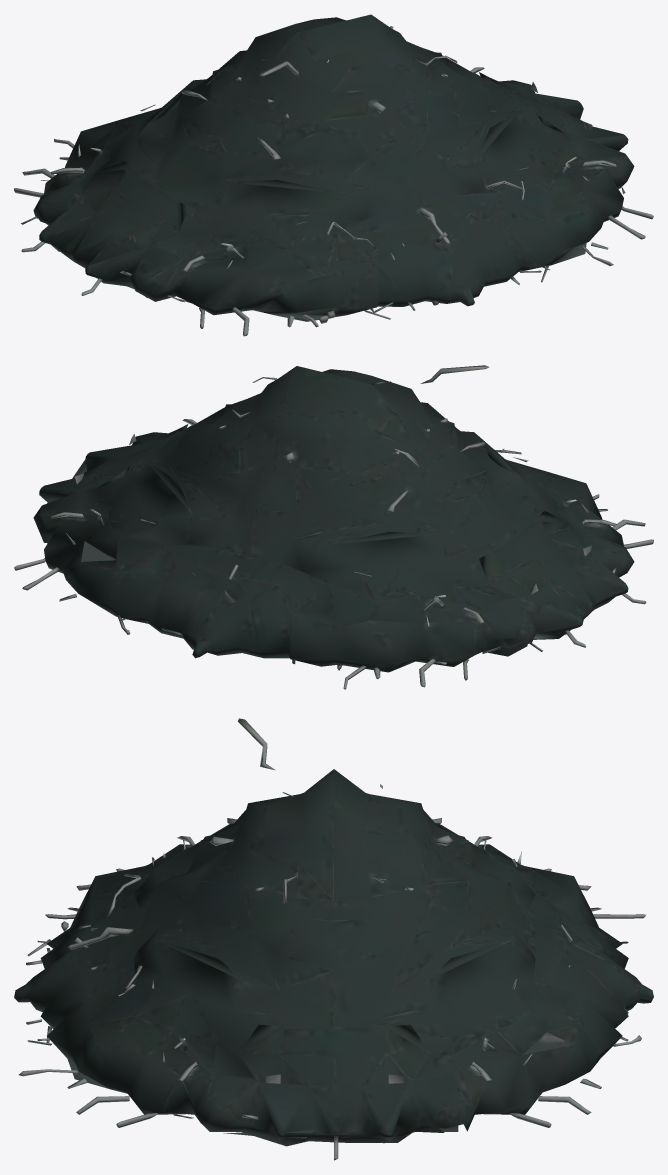
The model's file is hornet_swarm.glb.
3 views of the same model, one above another, from view 1: azimuth 30°, elevation 25°; view 2: azimuth 150°, elevation 25°; view 3: azimuth 270°, elevation 25° (orthographic). The views are drawn at different scales.
Parts seen in each view (by area): view 1: base_model_path; view 2: base_model_path; view 3: base_model_path.
Part boxes in pixels (x1,y1,x2,y2): base_model_path: (14, 14, 653, 336); base_model_path: (14, 365, 653, 689); base_model_path: (14, 718, 653, 1160).
Size of the model in its own units: 0.9975 by 0.3227 by 0.8449.
Materials: 1 (1 with a texture image).
